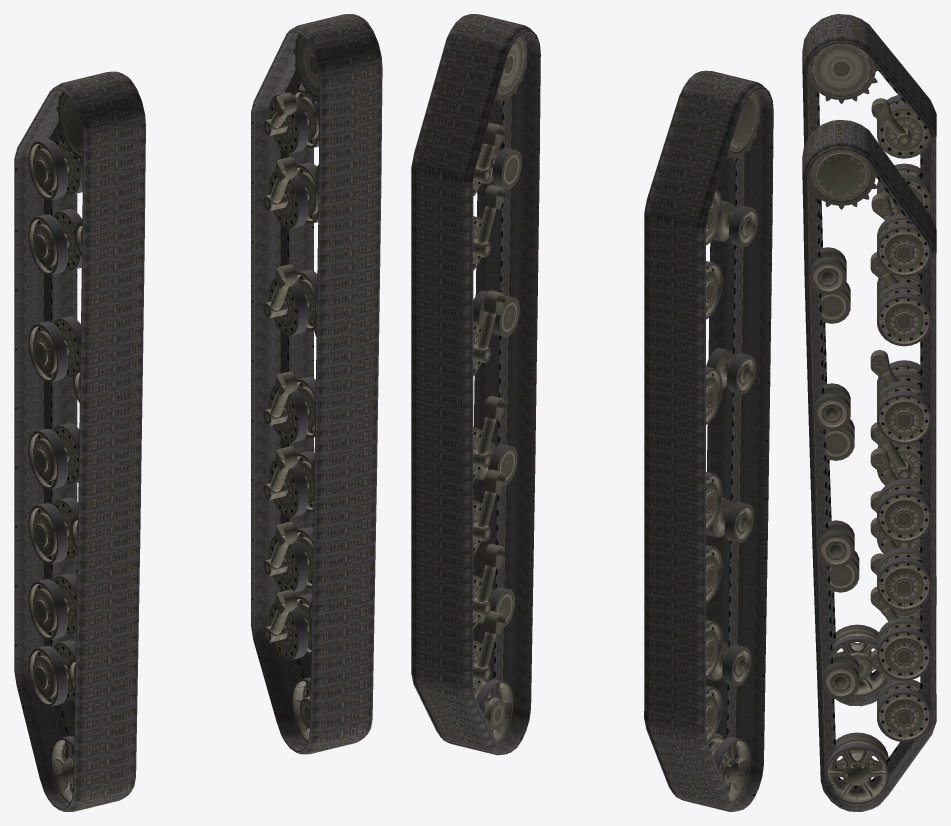
Rendered from Chassis.glb.
The picture shows the model from 3 angles, left to right: view 1: azimuth 30°, elevation 25°; view 2: azimuth 150°, elevation 25°; view 3: azimuth 270°, elevation 25°; orthographic projection. The views are drawn at different scales.
Visible parts, largest first — view 1: set_2_group_0, set_3_group_0, set_0_group_0, set_1_group_0; view 2: set_2_group_0, set_3_group_0, set_0_group_0, set_1_group_0; view 3: set_0_group_0, set_3_group_0, set_1_group_0, set_2_group_0.
Boxes of the visible parts, x1,y1,x2,y2 form: set_2_group_0: (14,71,145,811); set_3_group_0: (251,14,382,754); set_0_group_0: (263,18,368,742); set_1_group_0: (28,73,132,803); set_2_group_0: (644,70,773,811); set_3_group_0: (411,14,540,755); set_0_group_0: (466,18,527,743); set_1_group_0: (698,75,760,803); set_0_group_0: (805,123,931,804); set_3_group_0: (802,119,936,811); set_1_group_0: (805,17,931,696); set_2_group_0: (802,14,936,706).
Bounding box in the file's own units: 3.38 × 7.89 × 1.43.
Materials: 4 (4 with a texture image).
